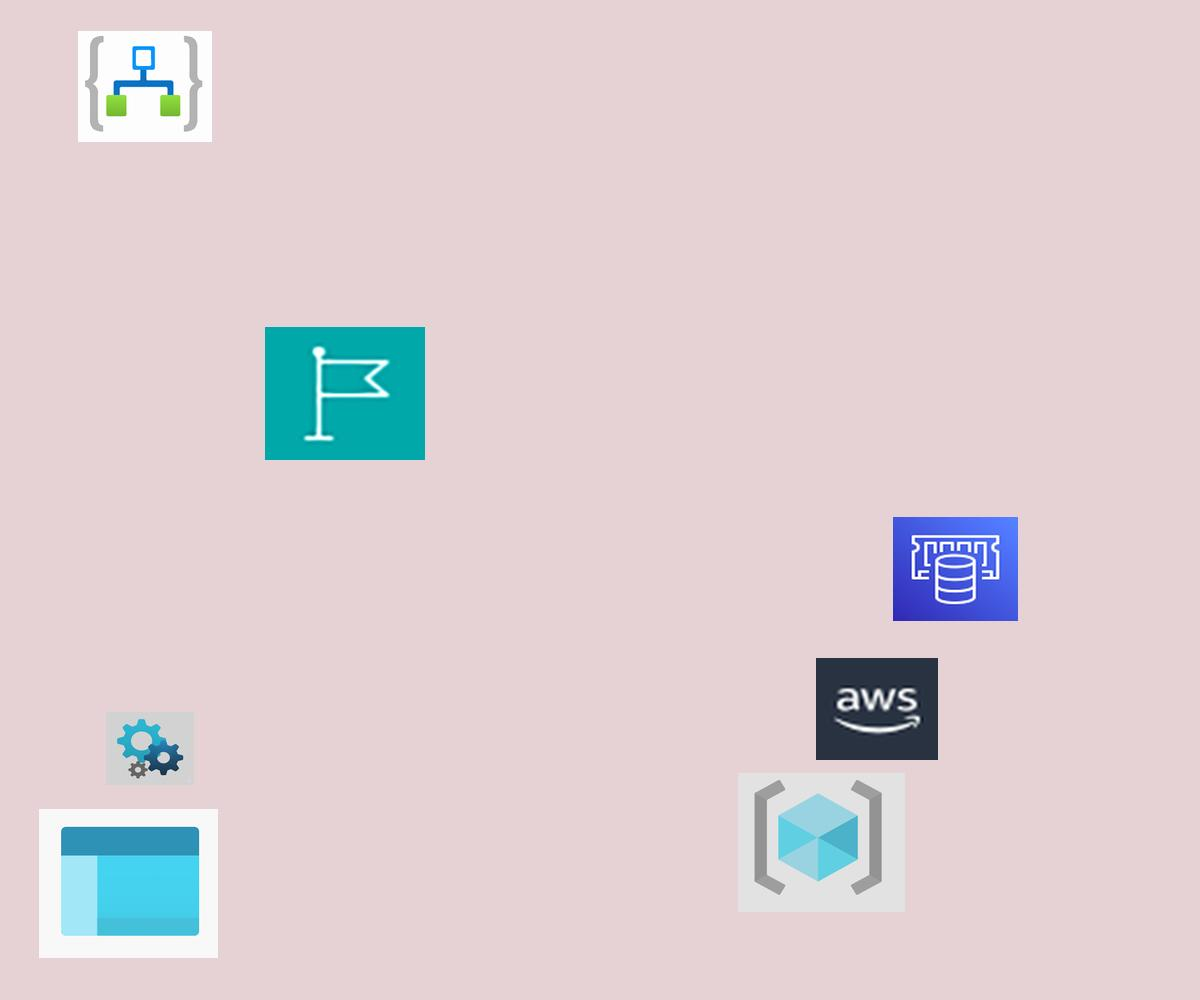AWS-Cloud-logo: (816, 658, 938, 760)
AWS-ElastiCache: (893, 517, 1018, 621)
AWS-Region: (265, 327, 425, 460)
Azure_api: (106, 712, 194, 785)
Azure_integration-204-Logic-Apps: (78, 31, 212, 142)
Azure_management-portal: (39, 809, 218, 958)
Azure_resource_group: (738, 773, 905, 912)
